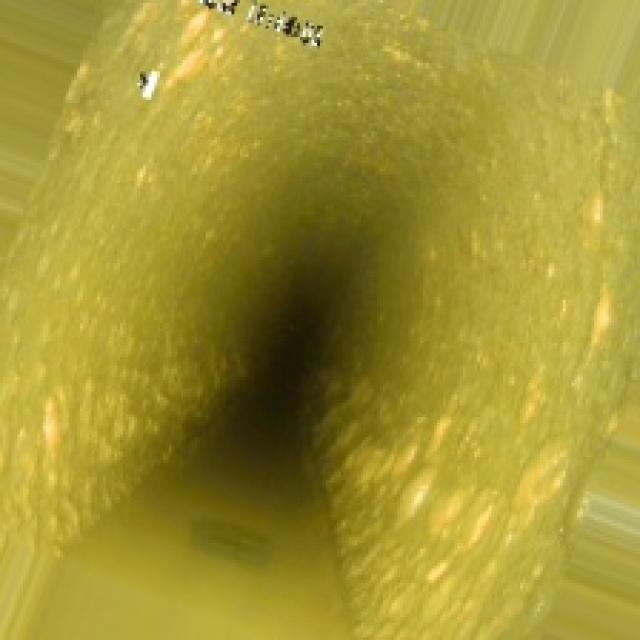encrustation: (77, 128, 554, 566)
